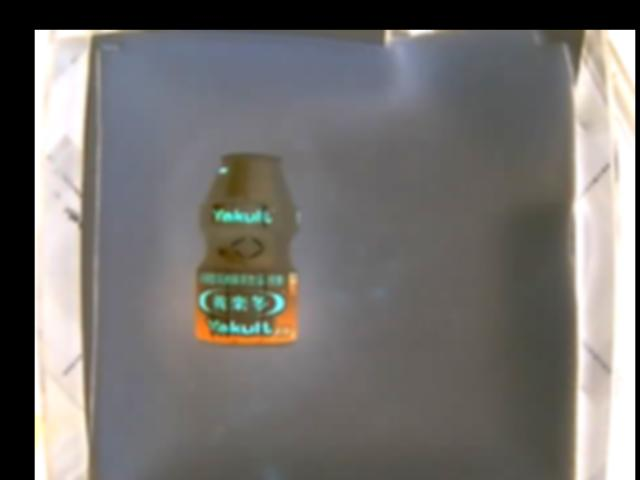Bottle: (197, 151, 296, 346)
